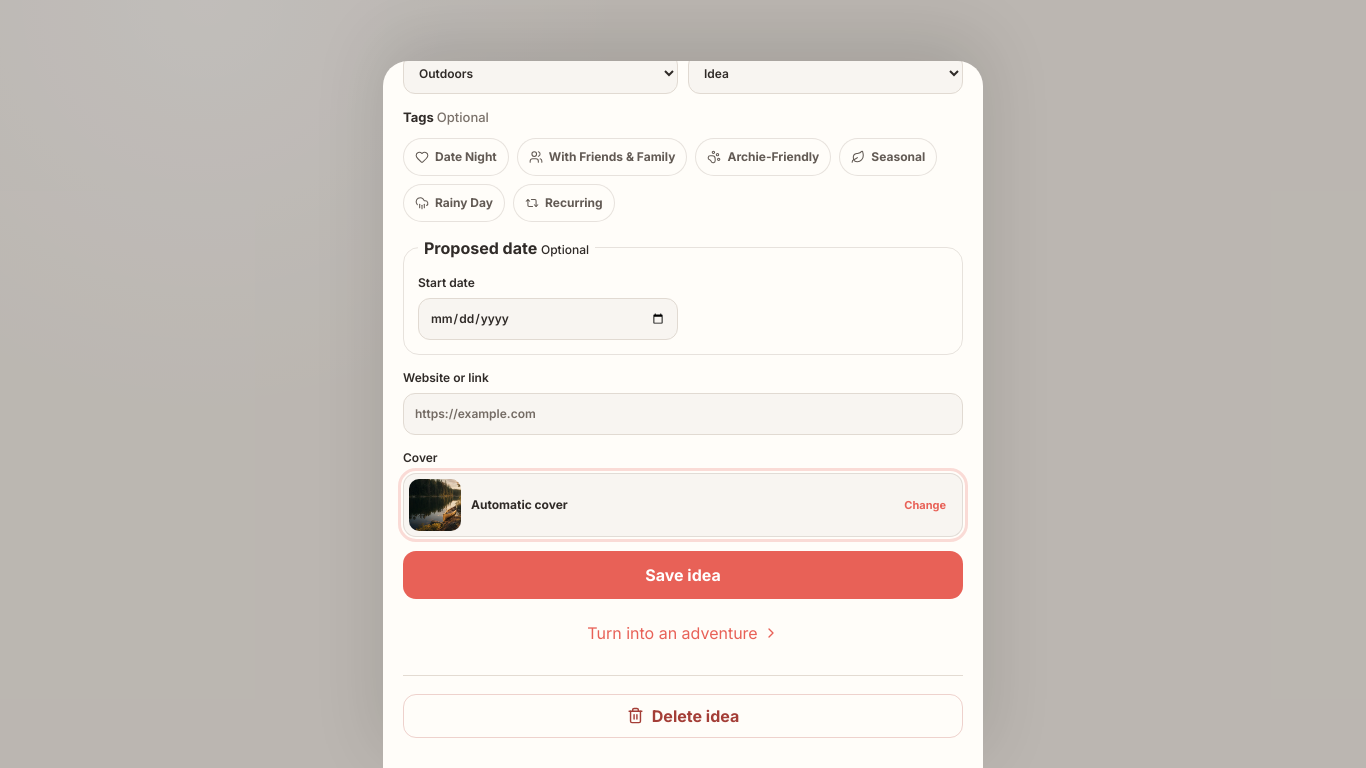
it: IdeaSheet cover editing › Escape closes only the nested picker and restores focus to the Cover field
(page scrolled)
Click the button with aria-label "Change idea cover" at (435, 505), box [403,473,963,537]
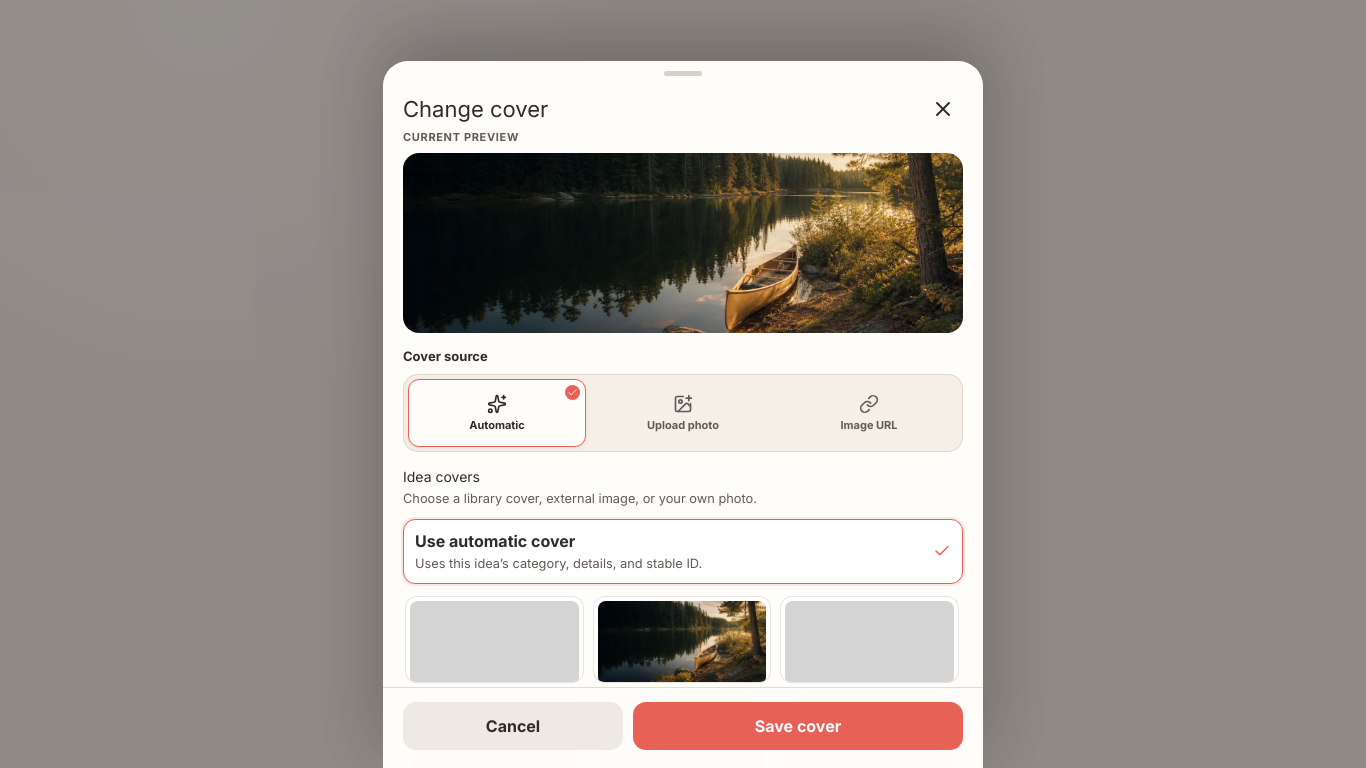
Expected: the dialog "Change cover" is shown, [383,62,983,767]
Press Escape
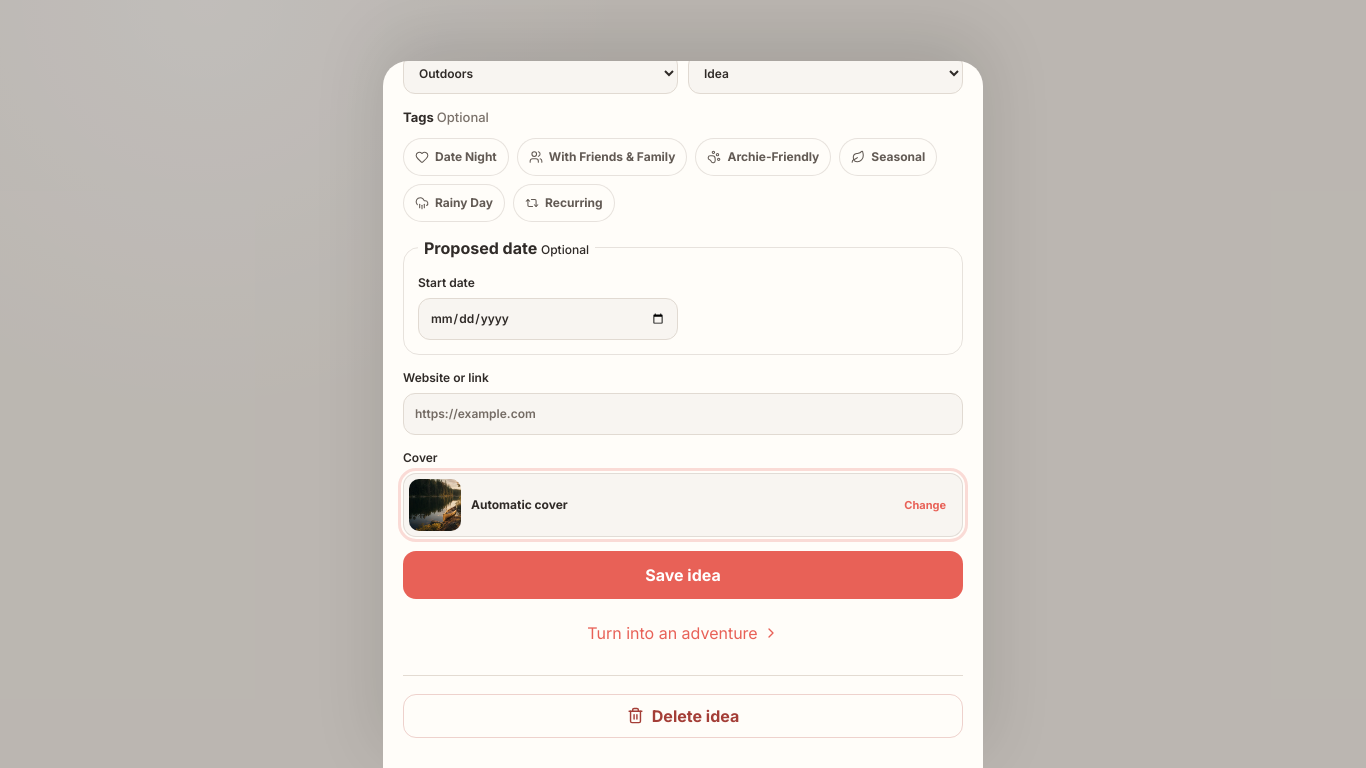
Expected: the dialog "Edit idea" is shown, [383,62,983,767]
Expected: the heading "Change cover" is gone
